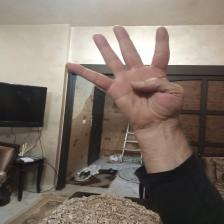four: (61, 21, 188, 140)
